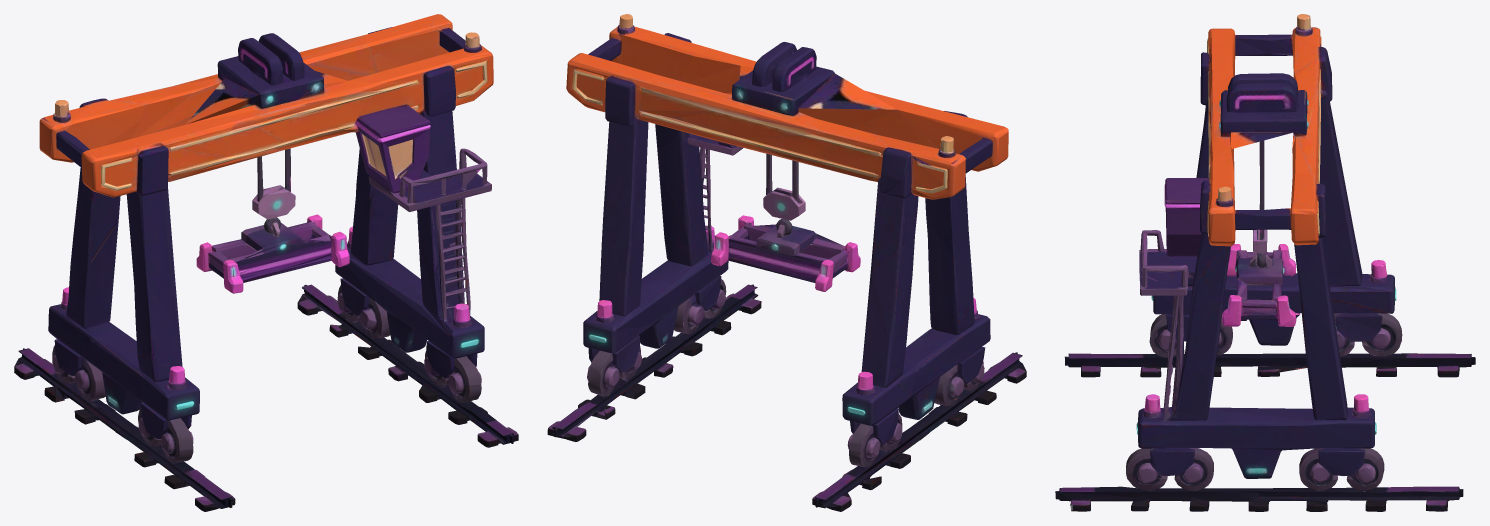
The model's file is prop-gantry.glb.
3 renders of one model, left to right at view 1: azimuth 30°, elevation 25°; view 2: azimuth 150°, elevation 25°; view 3: azimuth 270°, elevation 25°, orthographic. The views are drawn at different scales.
Parts seen in each view (by area): view 1: output_unwrapped; view 2: output_unwrapped; view 3: output_unwrapped.
Boxes of the visible parts, bbox=[...] form: output_unwrapped: bbox=[14, 14, 518, 511]; output_unwrapped: bbox=[547, 14, 1026, 511]; output_unwrapped: bbox=[1055, 14, 1475, 511].
Size of the model in its own units: 1.9 by 1.63 by 1.73.
1 material, 1 textured.
